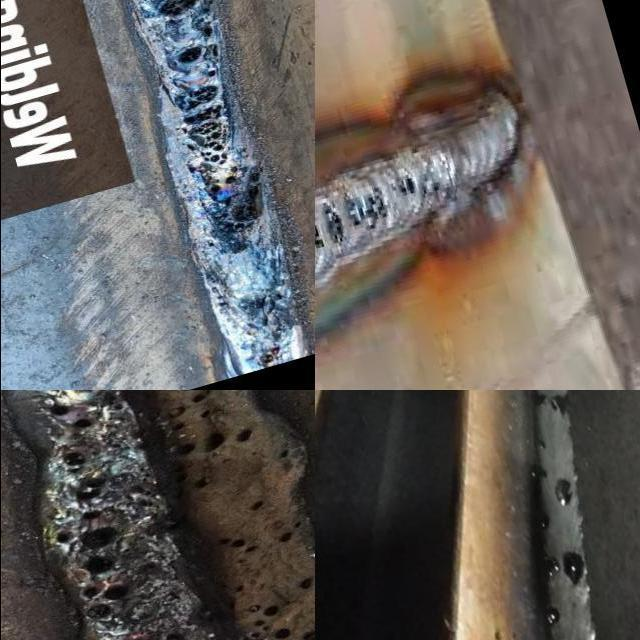defect: (171, 84, 265, 237), (53, 448, 132, 624), (164, 423, 260, 462), (335, 181, 391, 239), (239, 602, 314, 640), (164, 390, 214, 433), (540, 548, 588, 590), (40, 399, 97, 434), (318, 198, 351, 251), (212, 531, 264, 558), (87, 390, 130, 413), (179, 43, 221, 66), (549, 471, 573, 509), (248, 290, 284, 314), (154, 0, 199, 19), (394, 165, 418, 200), (277, 519, 309, 545), (243, 491, 272, 517), (548, 390, 570, 424), (259, 344, 285, 368), (543, 602, 564, 631), (314, 216, 328, 253), (274, 445, 299, 462), (528, 462, 548, 483), (192, 475, 215, 492), (294, 575, 314, 592), (535, 512, 551, 531), (215, 292, 230, 309), (533, 391, 547, 408), (534, 436, 548, 450), (200, 27, 216, 37), (207, 67, 218, 79), (200, 9, 212, 14), (209, 239, 216, 247)
